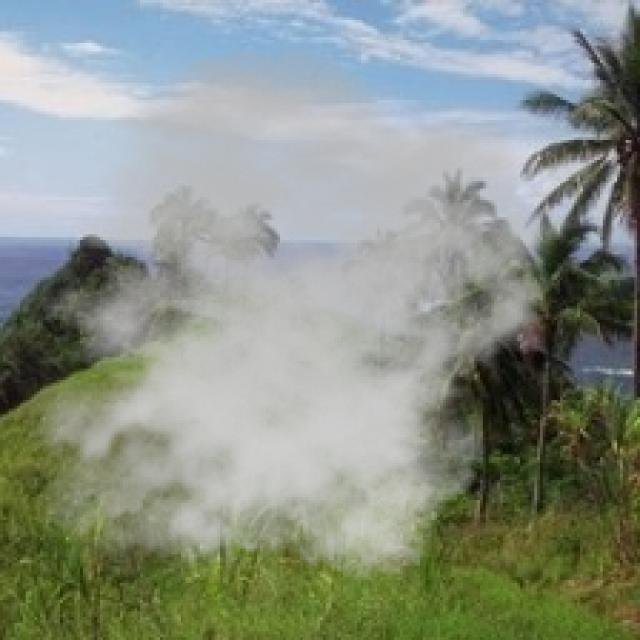Smoke: (2, 45, 568, 598)
